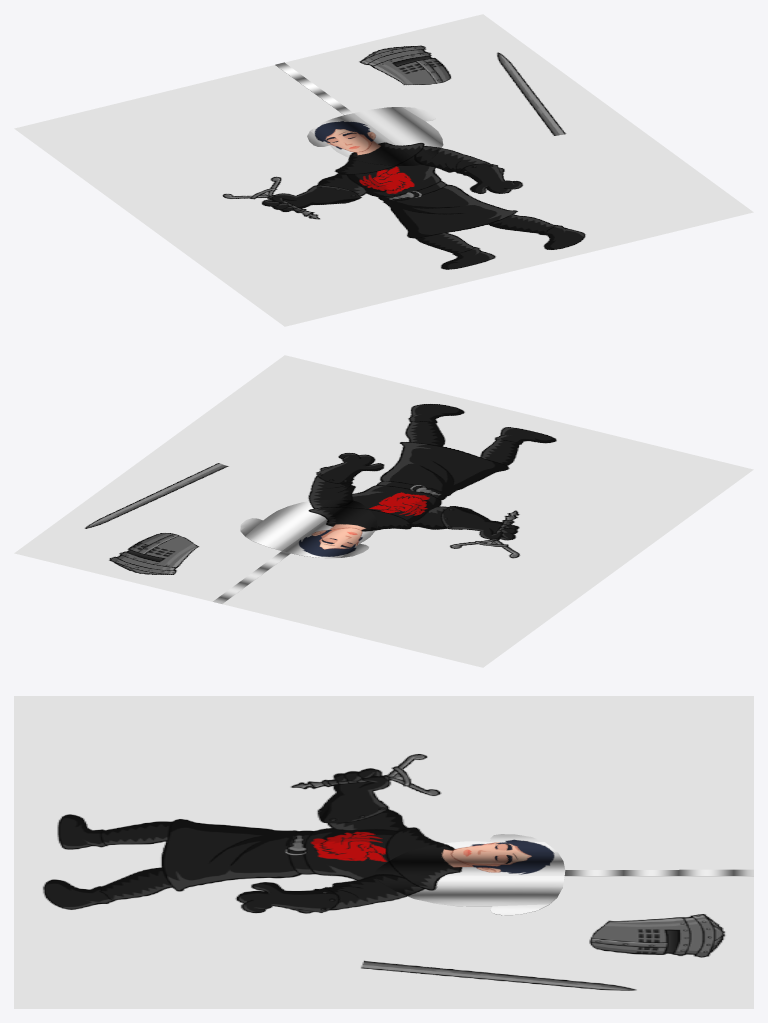
3 views of the same model, one above another, from view 1: azimuth 30°, elevation 25°; view 2: azimuth 150°, elevation 25°; view 3: azimuth 270°, elevation 25° (orthographic). The views are drawn at different scales.
Visible parts, largest first — view 1: Mesh, Blend, Blend1; view 2: Mesh, Blend, Blend1; view 3: Mesh, Blend, Blend1.
Boxes of the visible parts, left/top/right/bottom form: Mesh: left=14, top=14, right=753, bottom=326; Blend: left=307, top=107, right=443, bottom=165; Blend1: left=275, top=62, right=353, bottom=114; Mesh: left=14, top=355, right=753, bottom=667; Blend: left=240, top=499, right=377, bottom=558; Blend1: left=213, top=551, right=290, bottom=603; Mesh: left=14, top=696, right=753, bottom=1008; Blend: left=375, top=834, right=565, bottom=915; Blend1: left=564, top=869, right=753, bottom=876.
Bounding box in the file's own units: 2400 × 1 × 2400.
